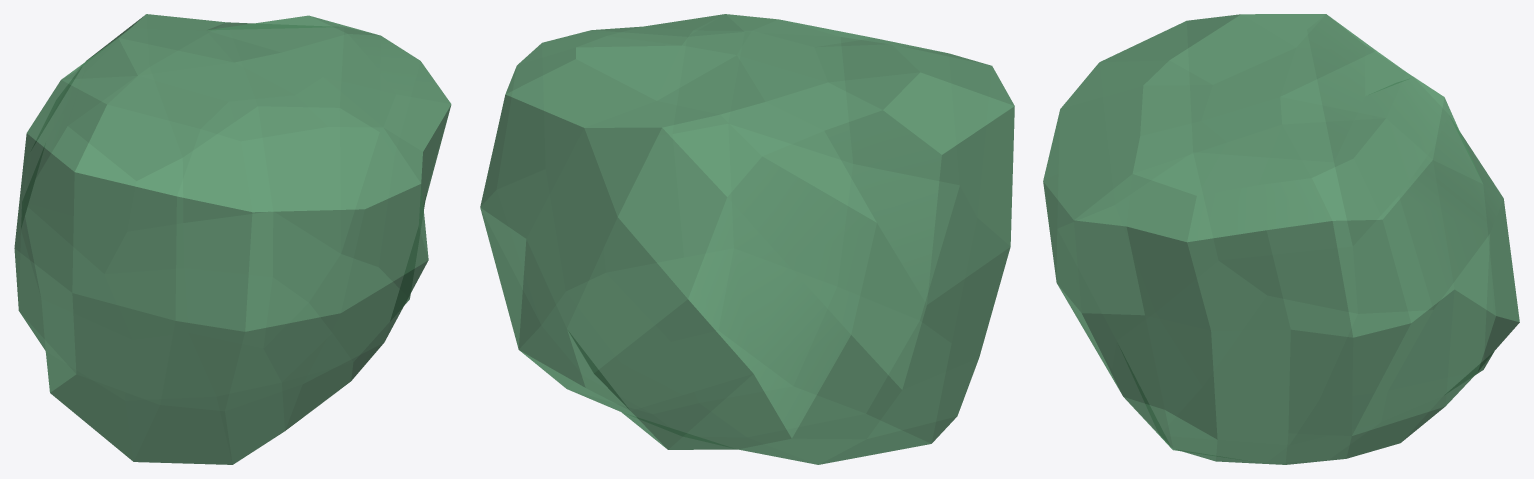
The model's file is Rock_04_Collider.fbx.
3 renders of one model, left to right at view 1: azimuth 30°, elevation 25°; view 2: azimuth 150°, elevation 25°; view 3: azimuth 270°, elevation 25°, orthographic. The views are drawn at different scales.
Visible parts, largest first — view 1: Rock_04_Collider; view 2: Rock_04_Collider; view 3: Rock_04_Collider.
Boxes of the visible parts, box(x1,y1,x2,y2) form: Rock_04_Collider: box(14, 14, 451, 464); Rock_04_Collider: box(480, 14, 1014, 464); Rock_04_Collider: box(1043, 14, 1519, 464).
Bounding box in the file's own units: 3730 × 3304 × 3775.
